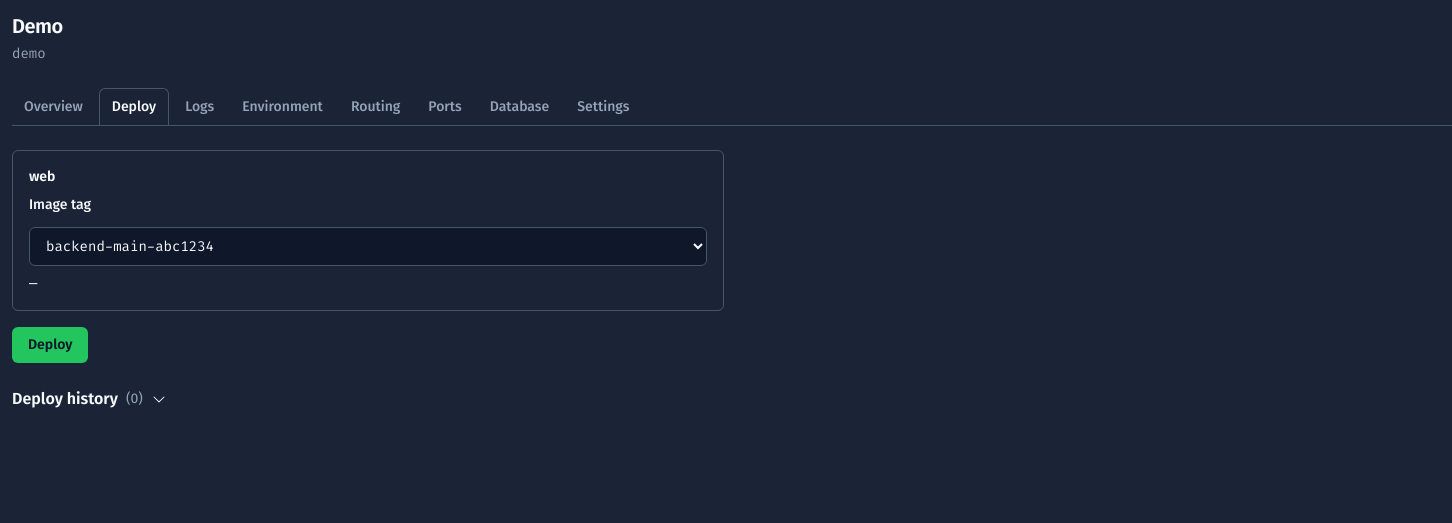
Test: ProjectPage deploy log live view › keeps the finished deploy log visible right after the deploy completes
The width and height of the screenshot is (1452, 523).
Click the tab "Deploy": [134, 106] box [99,88,169,125]
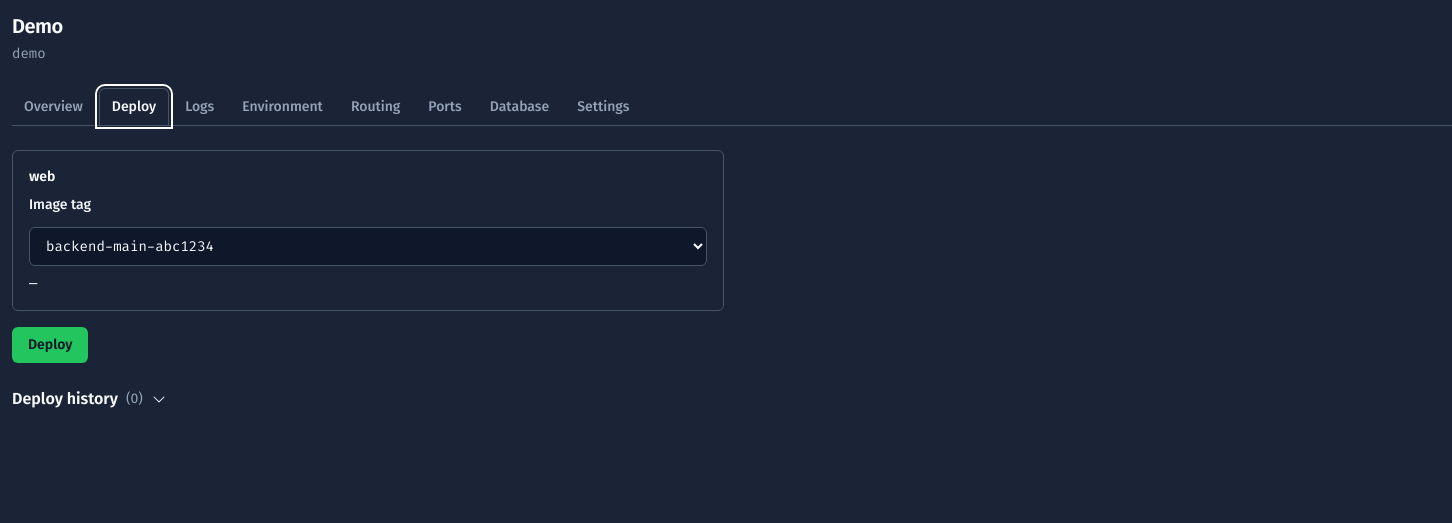
Click the button "Deploy": [50, 345] box [12,327,88,363]
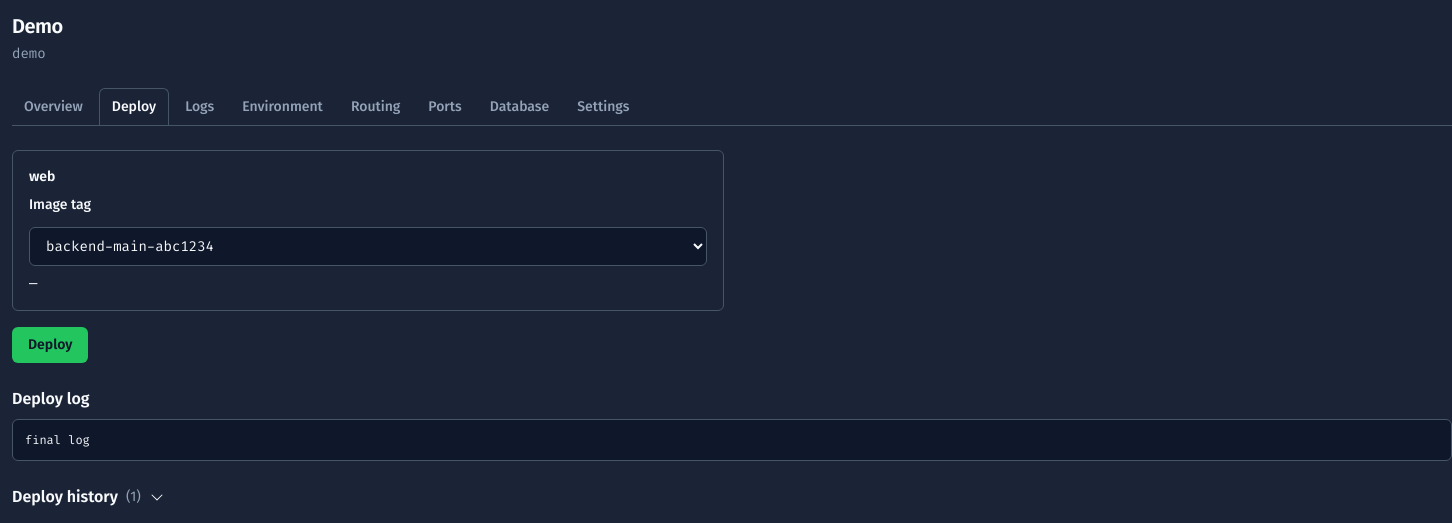
Now the text "final log" is shown, box [12,419,1451,461]
